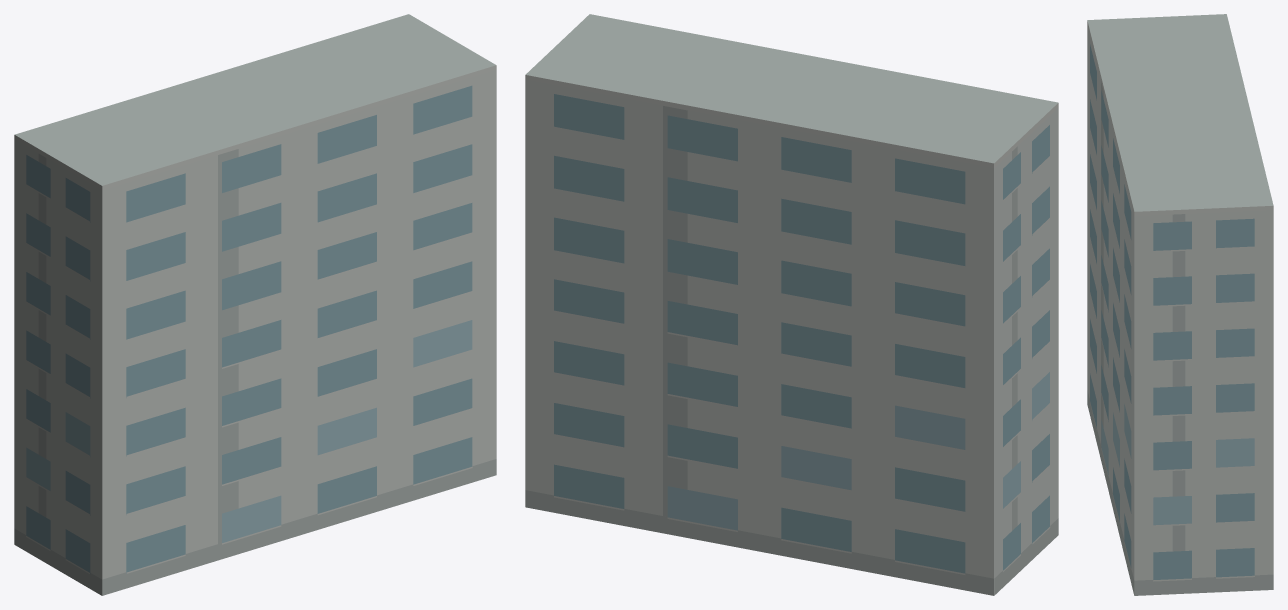
File: residential-54fb44d4-ed77-4429-8d3a-12c87224826f.glb
3 renders of one model, left to right at view 1: azimuth 30°, elevation 25°; view 2: azimuth 150°, elevation 25°; view 3: azimuth 270°, elevation 25°, orthographic. The views are drawn at different scales.
Parts seen in each view (by area): view 1: residential-54fb44d4-ed77-4429-8d3a-12c87224826f.tmp; view 2: residential-54fb44d4-ed77-4429-8d3a-12c87224826f.tmp; view 3: residential-54fb44d4-ed77-4429-8d3a-12c87224826f.tmp.
Part boxes in pixels (box(x1,y1,x2,y2)): residential-54fb44d4-ed77-4429-8d3a-12c87224826f.tmp: box(14, 14, 496, 595); residential-54fb44d4-ed77-4429-8d3a-12c87224826f.tmp: box(525, 14, 1058, 595); residential-54fb44d4-ed77-4429-8d3a-12c87224826f.tmp: box(1087, 14, 1273, 595).
Bounding box in the file's own units: 23.59 × 21.35 × 9.4.
